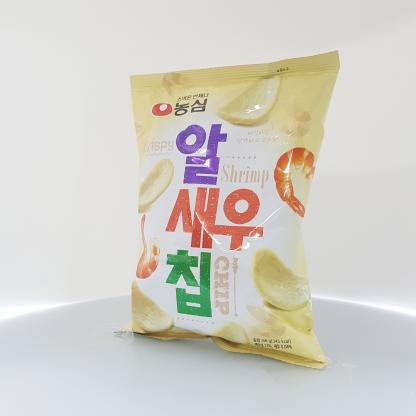Plastic Packaging: (113, 42, 352, 378)
